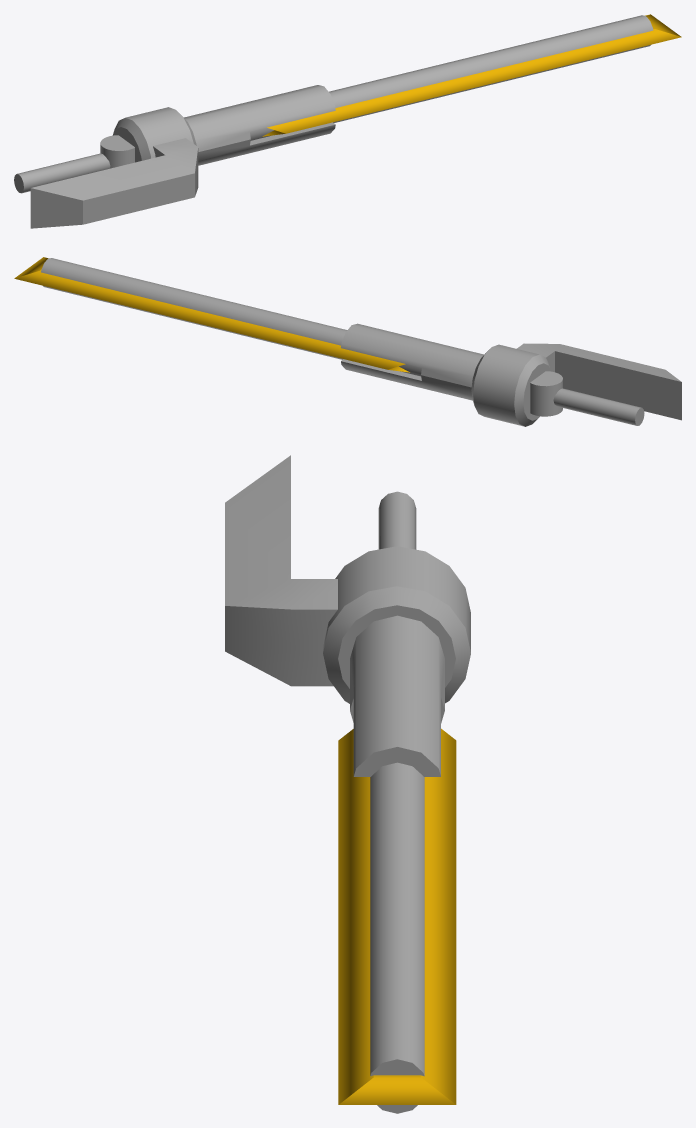
Rendered from SuperWeapon.fbx.
3 views of the same model, one above another, from view 1: azimuth 30°, elevation 25°; view 2: azimuth 150°, elevation 25°; view 3: azimuth 270°, elevation 25° (orthographic). The views are drawn at different scales.
Parts seen in each view (by area): view 1: Sword_Extend, Sword_Base1, AxeHead2, Blade_Sword, Weapon_Core, AxeHead1, Handle, Handle_Rotation; view 2: Sword_Extend, Sword_Base1, Blade_Sword, Weapon_Core, AxeHead2, AxeHead1, Handle, Handle_Rotation; view 3: Blade_Sword, Sword_Extend, Sword_Base1, AxeHead2, Weapon_Core, AxeHead1, Handle.
Boxes of the visible parts, bbox=[...] form: Sword_Extend: bbox=[250, 15, 653, 140]; Sword_Base1: bbox=[184, 85, 335, 165]; AxeHead2: bbox=[30, 138, 198, 212]; Blade_Sword: bbox=[262, 14, 681, 136]; Weapon_Core: bbox=[112, 107, 196, 162]; AxeHead1: bbox=[30, 168, 198, 228]; Handle: bbox=[14, 153, 110, 193]; Handle_Rotation: bbox=[100, 135, 134, 168]; Sword_Extend: bbox=[41, 258, 421, 376]; Sword_Base1: bbox=[341, 323, 483, 400]; Blade_Sword: bbox=[14, 257, 409, 372]; Weapon_Core: bbox=[471, 344, 551, 426]; AxeHead2: bbox=[517, 343, 681, 400]; AxeHead1: bbox=[553, 370, 681, 420]; Handle: bbox=[553, 388, 644, 425]; Handle_Rotation: bbox=[530, 371, 562, 416]; Blade_Sword: bbox=[338, 728, 456, 1104]; Sword_Extend: bbox=[370, 762, 424, 1113]; Sword_Base1: bbox=[350, 615, 444, 776]; AxeHead2: bbox=[225, 455, 337, 647]; Weapon_Core: bbox=[323, 546, 470, 703]; AxeHead1: bbox=[225, 629, 333, 686]; Handle: bbox=[378, 491, 416, 549].
Bounding box in the file's own units: 2.29 × 0.2348 × 0.3902.
